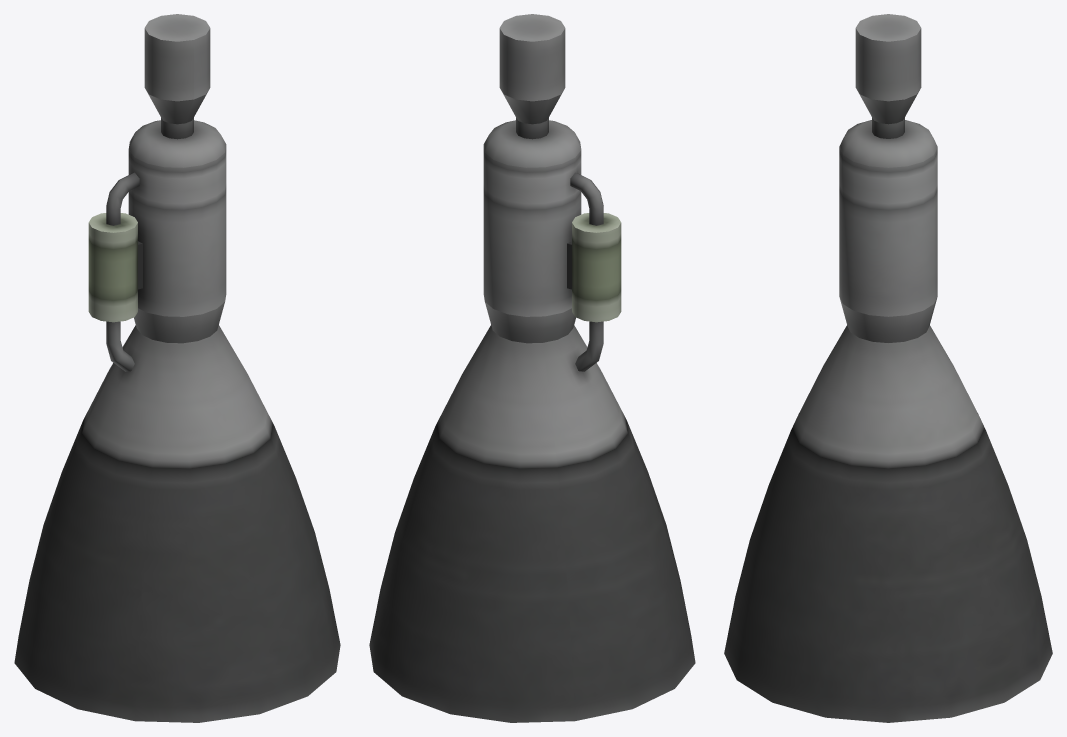
The model's file is Vega_Engine_S_1_1.obj.
3 renders of one model, left to right at view 1: azimuth 30°, elevation 25°; view 2: azimuth 150°, elevation 25°; view 3: azimuth 270°, elevation 25°, orthographic.
Visible parts, largest first — view 1: Vega_Engine_S_1_1; view 2: Vega_Engine_S_1_1; view 3: Vega_Engine_S_1_1.
Boxes of the visible parts, x1=… form: Vega_Engine_S_1_1: x1=14, y1=14, x2=340, y2=722; Vega_Engine_S_1_1: x1=369, y1=14, x2=695, y2=722; Vega_Engine_S_1_1: x1=724, y1=14, x2=1052, y2=722.
Size of the model in its own units: 0.25 by 0.525 by 0.25.
